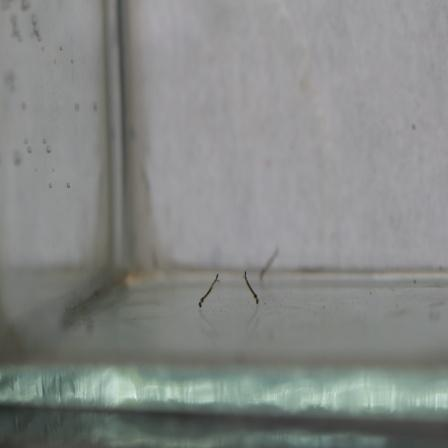Jentik-Nyamuk: (197, 273, 220, 309), (242, 270, 260, 306)
